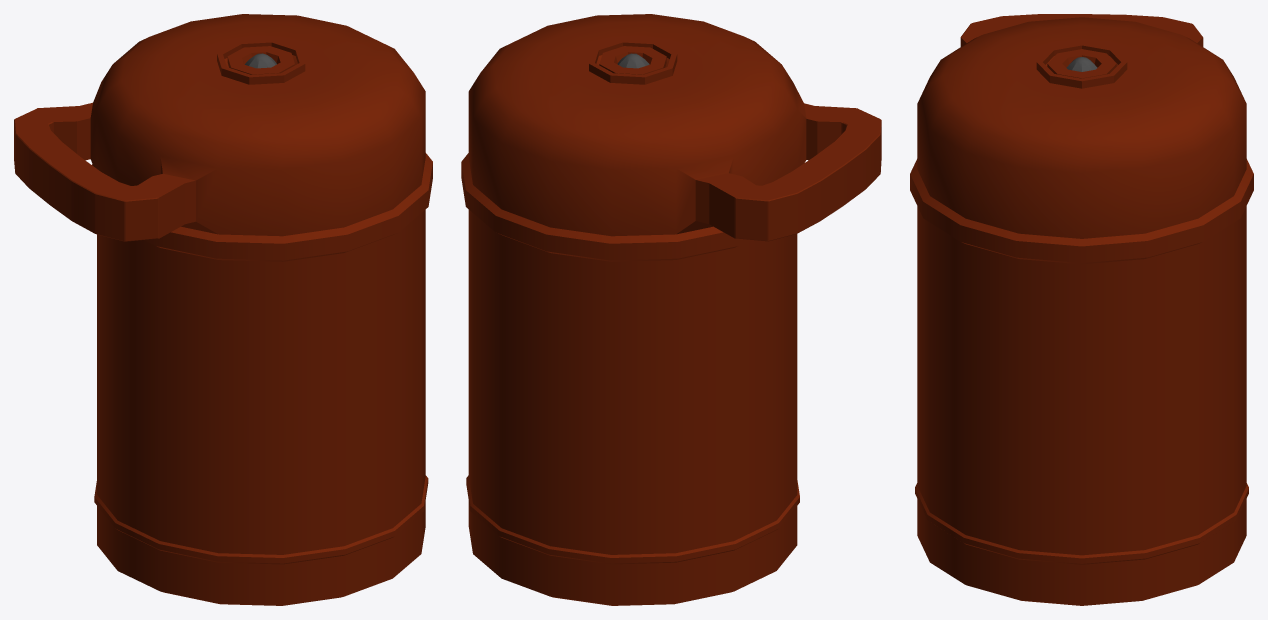
File: gas8.glb
3 renders of one model, left to right at view 1: azimuth 30°, elevation 25°; view 2: azimuth 150°, elevation 25°; view 3: azimuth 270°, elevation 25°, orthographic.
Visible parts, largest first — view 1: Gas8; view 2: Gas8; view 3: Gas8.
Boxes of the visible parts, left/top/right/bottom form: Gas8: left=14, top=14, right=432, bottom=605; Gas8: left=461, top=14, right=881, bottom=605; Gas8: left=910, top=14, right=1253, bottom=605.
Bounding box in the file's own units: 2.19 × 2.81 × 1.82.
